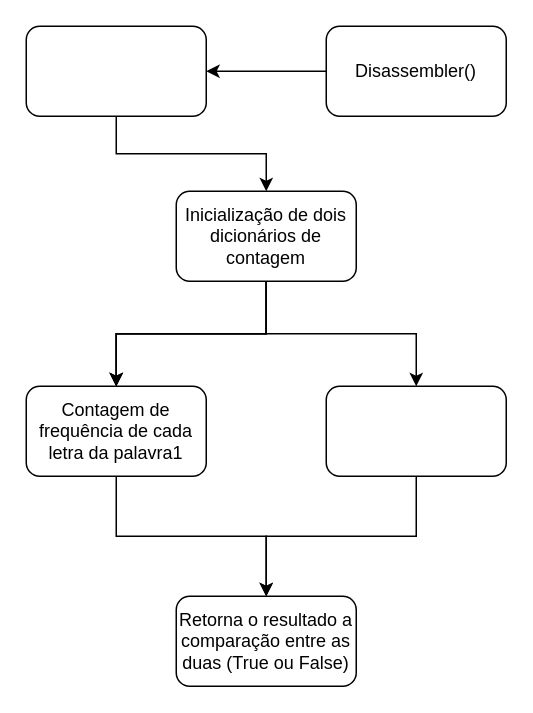
Some shapes in this 533 by 713 pixel diagram are drawn without their labels. The centre of each missing label's shape, as x and y in pixels:
"Chama da Função VTS" goes at (115,70).
"Contagem de frequência de cada letra da palavra2" goes at (415,430).
